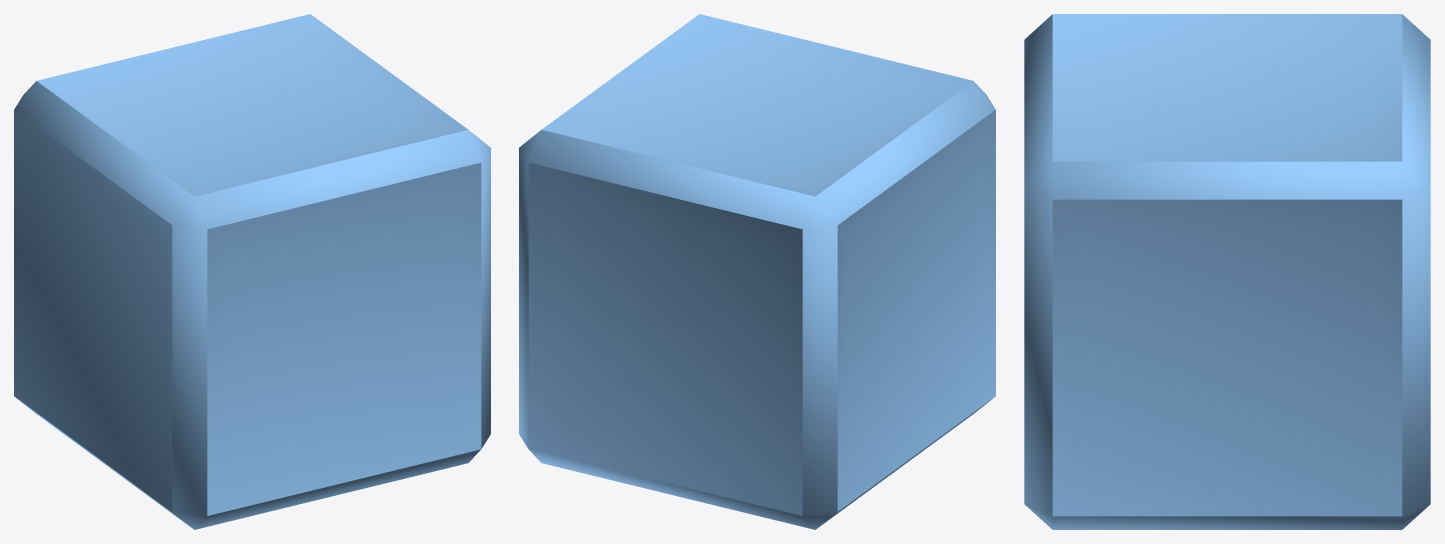
File: chamfer.glb
The picture shows the model from 3 angles, left to right: view 1: azimuth 30°, elevation 25°; view 2: azimuth 150°, elevation 25°; view 3: azimuth 270°, elevation 25°; orthographic projection. The views are drawn at different scales.
Visible parts, largest first — view 1: block_chamfer; view 2: block_chamfer; view 3: block_chamfer.
Part boxes in pixels (x1,y1,x2,y2): block_chamfer: (14, 14, 490, 529); block_chamfer: (519, 14, 995, 529); block_chamfer: (1024, 14, 1430, 529).
Bounding box in the file's own units: 1 × 1 × 1.
